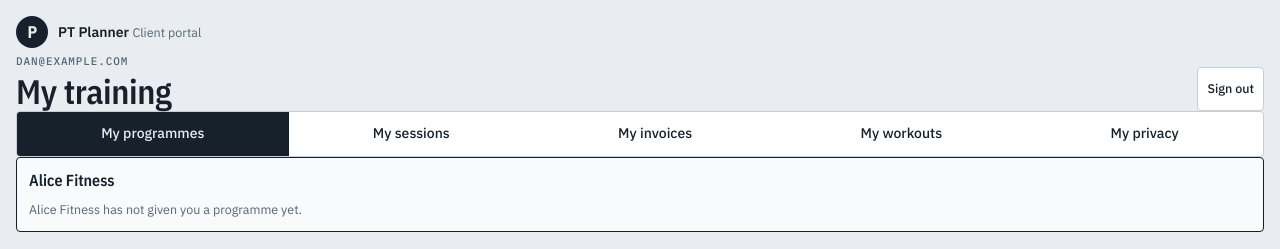
Scenario: the client’s invoices › says so when there are none
Click the tab "My invoices" at (655, 134), box left=534, top=112, right=776, bottom=156
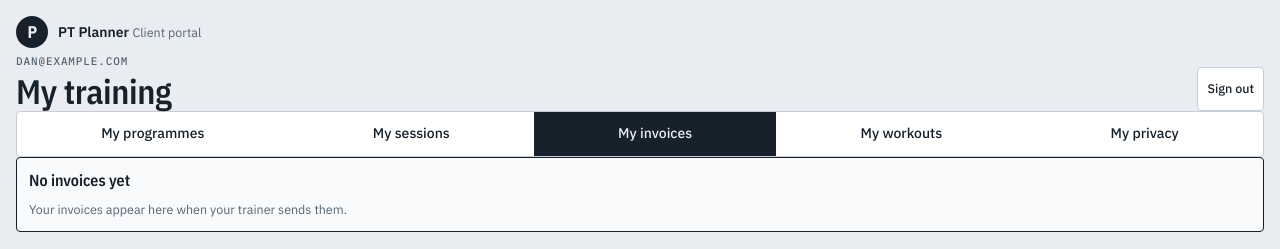
Expected: the heading "No invoices yet" is shown, left=29, top=170, right=130, bottom=190
